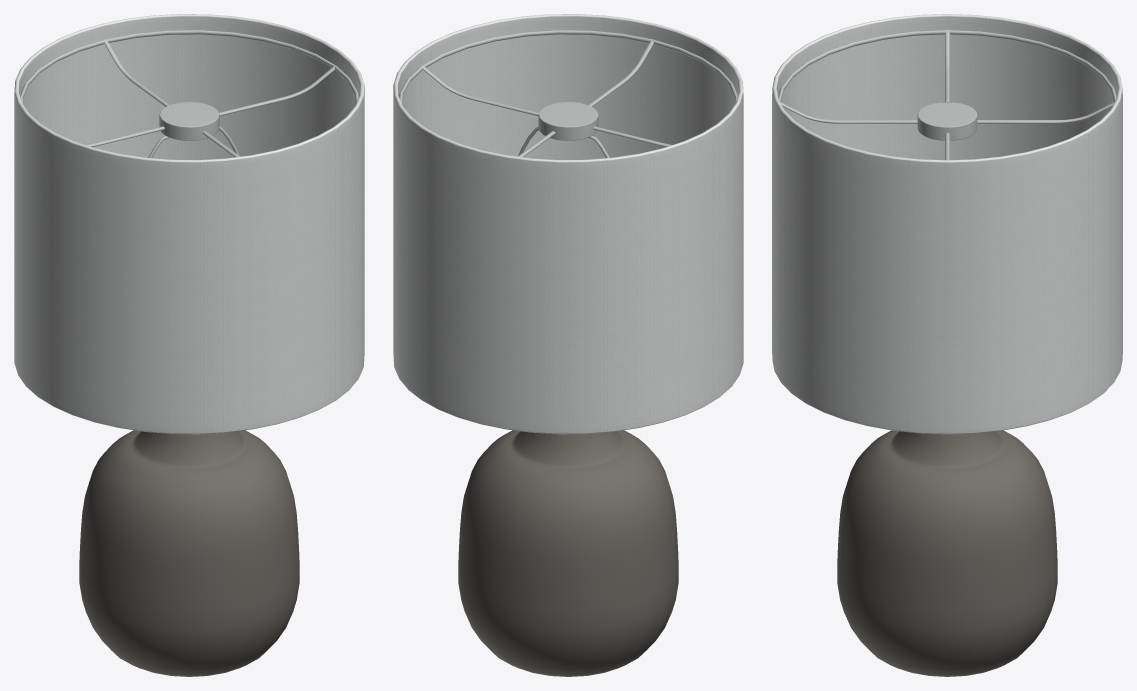
Rendered from abo-B07MHMNJYP.glb.
The picture shows the model from 3 angles, left to right: view 1: azimuth 30°, elevation 25°; view 2: azimuth 150°, elevation 25°; view 3: azimuth 270°, elevation 25°; orthographic projection.
Bounding box in the file's own units: 0.207 × 0.366 × 0.207.
Materials: 1 (1 with a texture image).
